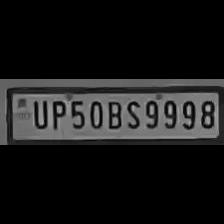0: (86, 97, 104, 129)
5: (67, 97, 85, 130)
8: (196, 97, 216, 129)
9: (160, 97, 178, 129), (179, 97, 197, 129), (141, 97, 158, 129)
B: (104, 97, 122, 130)
P: (47, 97, 66, 130)
S: (124, 97, 140, 129)
U: (29, 96, 47, 130)
